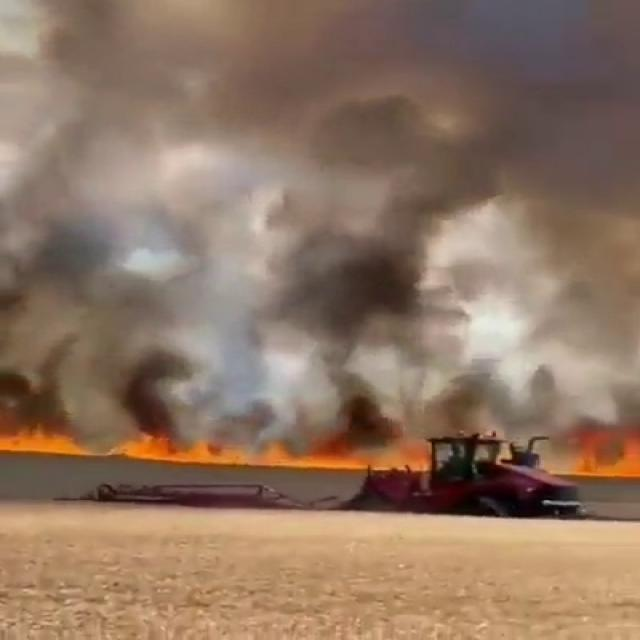Fire: (536, 424, 640, 486)
